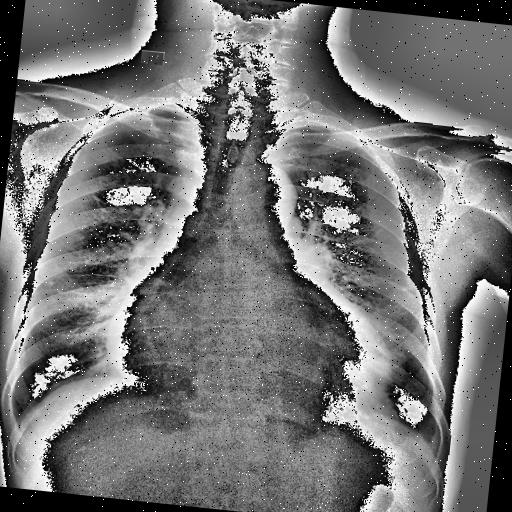3- Cardiomegaly: (104, 283, 396, 407), (100, 316, 390, 420), (98, 314, 397, 410)
